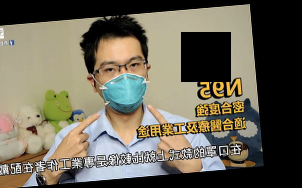with_mask: (94, 55, 148, 114)
